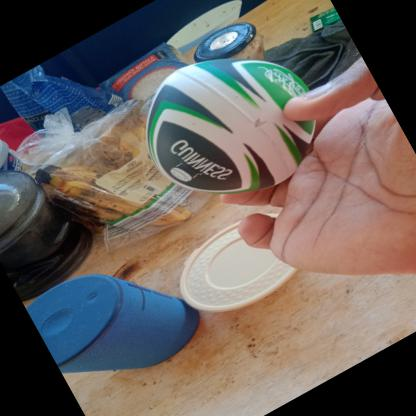Rugby: (113, 12, 349, 235)
